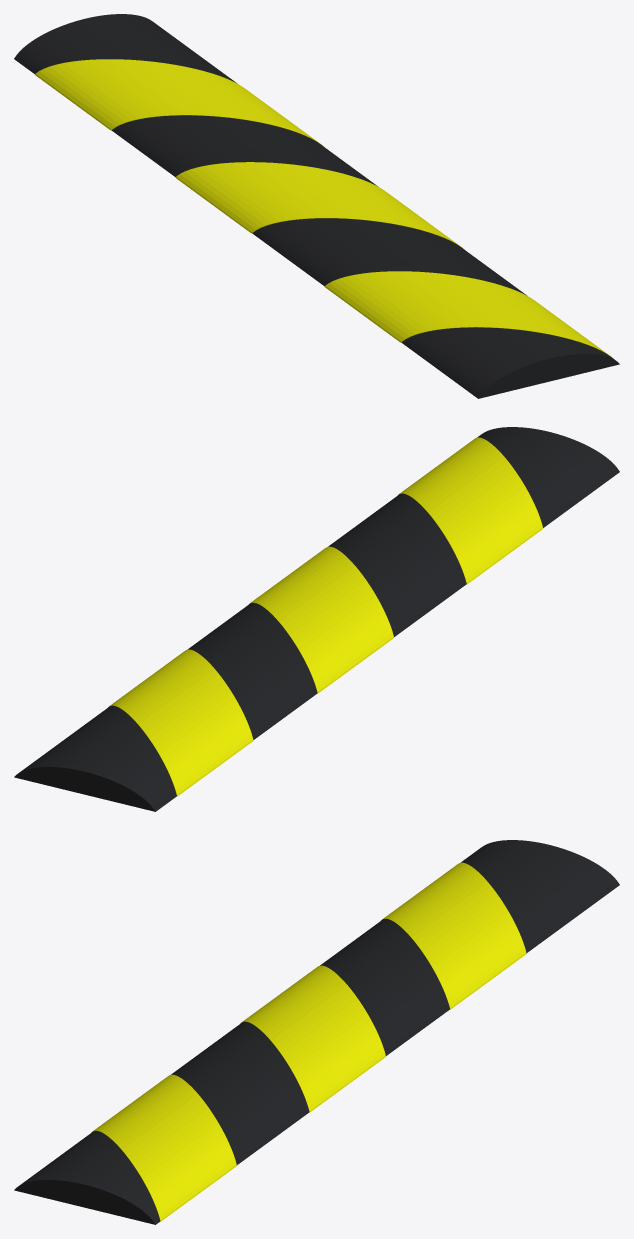
Rendered from lombada.fbx.
The picture shows the model from 3 angles, top to bottom: view 1: azimuth 30°, elevation 25°; view 2: azimuth 150°, elevation 25°; view 3: azimuth 330°, elevation 25°; orthographic projection.
Visible parts, largest first — view 1: Cylinder; view 2: Cylinder; view 3: Cylinder.
Boxes of the visible parts, x1,y1,x2,y2 form: Cylinder: (14, 14, 619, 398); Cylinder: (14, 427, 619, 811); Cylinder: (14, 840, 619, 1224).
Size of the model in its own units: 134 by 21.06 by 758.
